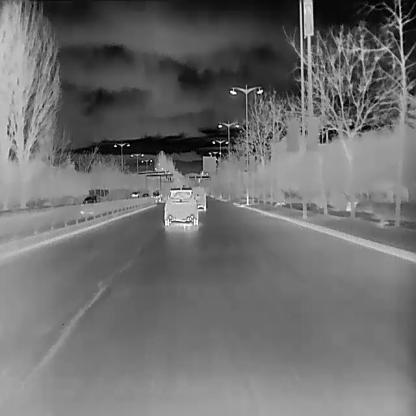car: (162, 185, 199, 225), (190, 185, 206, 211), (79, 194, 98, 214), (150, 190, 162, 203), (130, 190, 140, 198), (140, 192, 149, 198)
